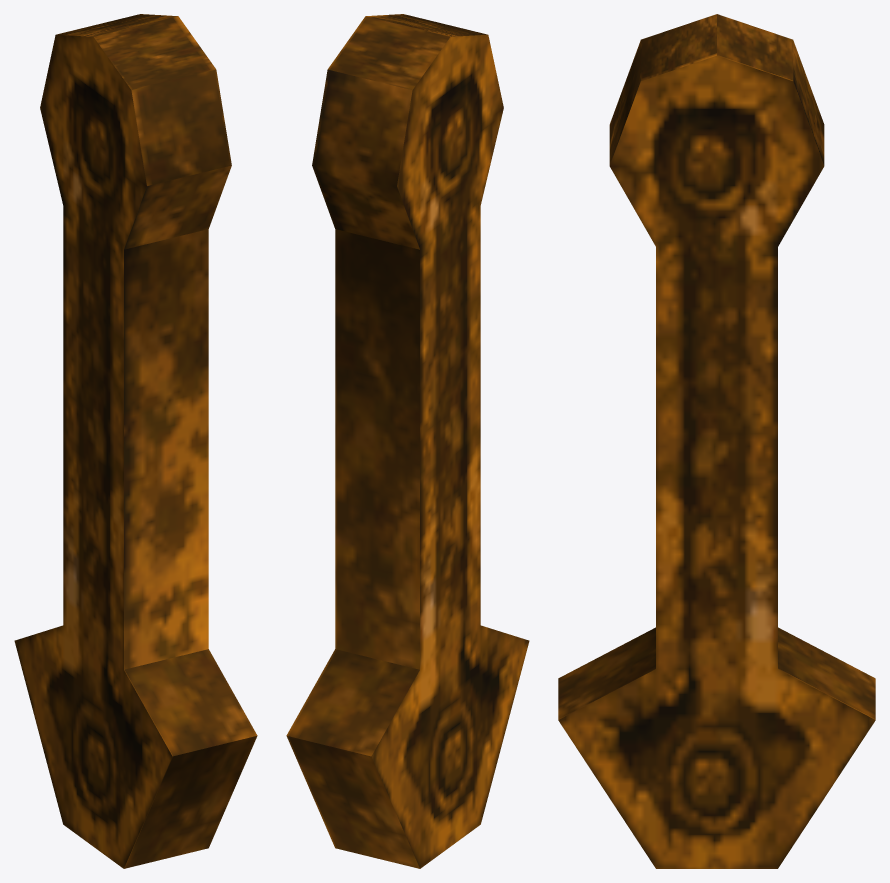
Rendered from INST_PUZZLE_PIECE4_PIECE4_COPPER.fbx.
The picture shows the model from 3 angles, left to right: view 1: azimuth 30°, elevation 25°; view 2: azimuth 150°, elevation 25°; view 3: azimuth 270°, elevation 25°; orthographic projection.
Parts seen in each view (by area): view 1: INST_PUZZLE_PIECE4_PIECE4_COPPER; view 2: INST_PUZZLE_PIECE4_PIECE4_COPPER; view 3: INST_PUZZLE_PIECE4_PIECE4_COPPER.
Part boxes in pixels (x1,y1,x2,y2): INST_PUZZLE_PIECE4_PIECE4_COPPER: [14, 14, 257, 868]; INST_PUZZLE_PIECE4_PIECE4_COPPER: [286, 14, 529, 868]; INST_PUZZLE_PIECE4_PIECE4_COPPER: [558, 14, 875, 868].
Bounding box in the file's own units: 425 × 3867 × 1369.
1 material, 1 textured.
